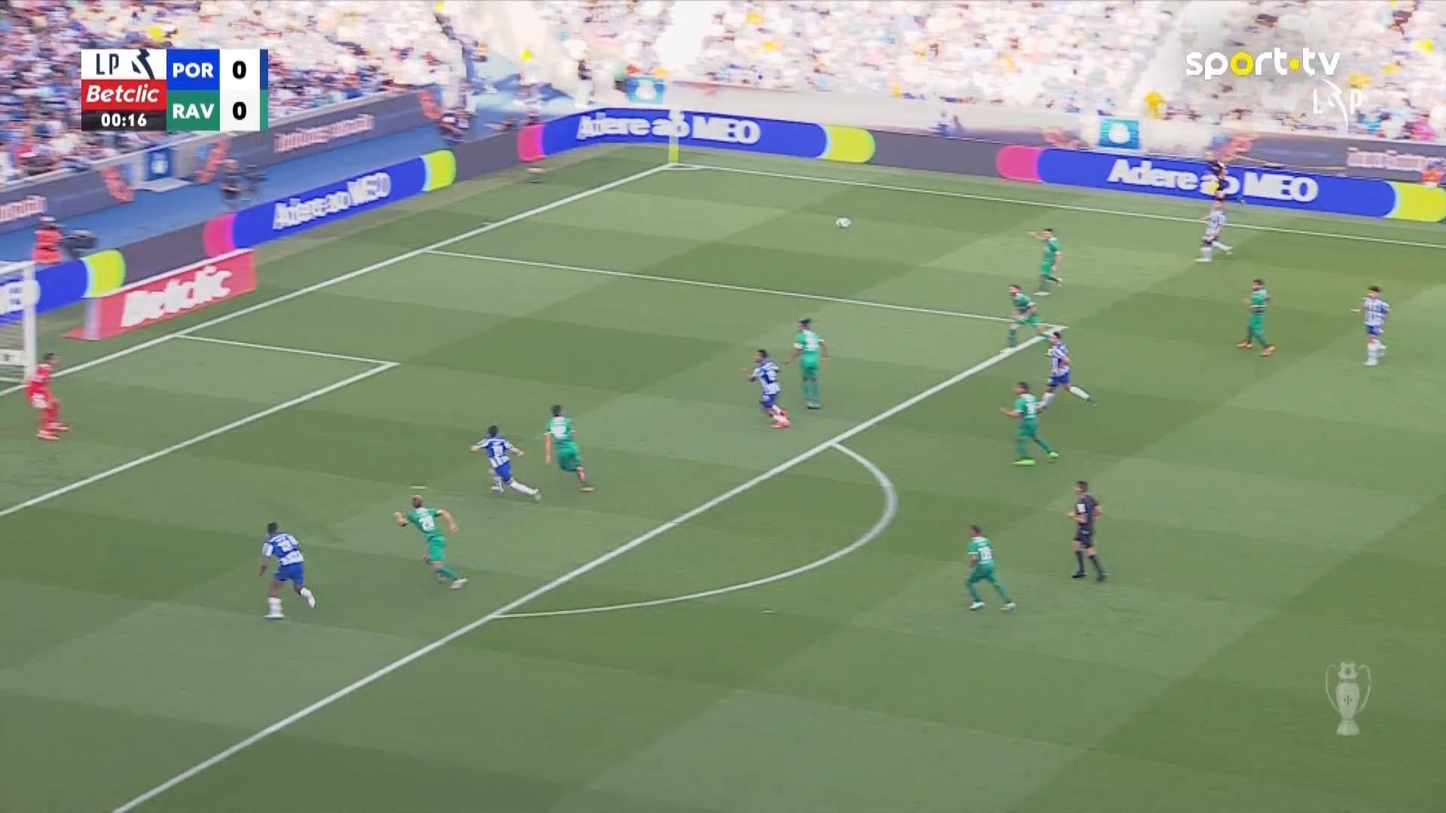ball: (834, 216, 850, 228)
goalkeeper: (23, 350, 68, 440)
player: (392, 493, 468, 589), (256, 519, 316, 619), (469, 424, 541, 503), (999, 380, 1059, 465), (1036, 328, 1096, 412), (541, 403, 594, 492), (963, 522, 1016, 611), (782, 315, 828, 409), (743, 348, 791, 428), (1350, 284, 1390, 366), (1235, 276, 1275, 355), (1005, 282, 1047, 348), (1194, 197, 1233, 262), (1027, 227, 1063, 297)
referee: (1066, 479, 1108, 581)
